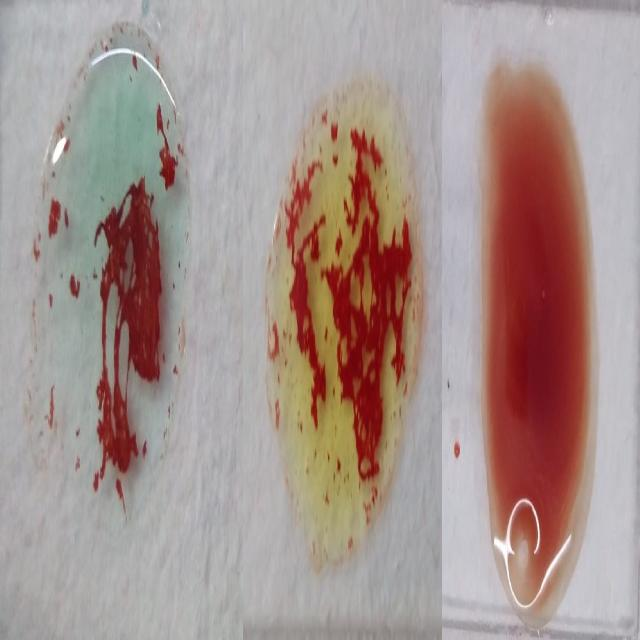A: (26, 25, 196, 528)
B: (276, 78, 422, 574)
